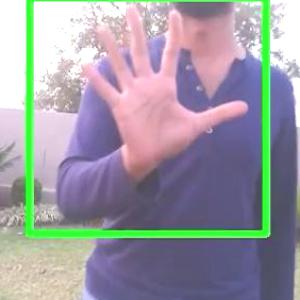follow_hand: (74, 0, 254, 169)
